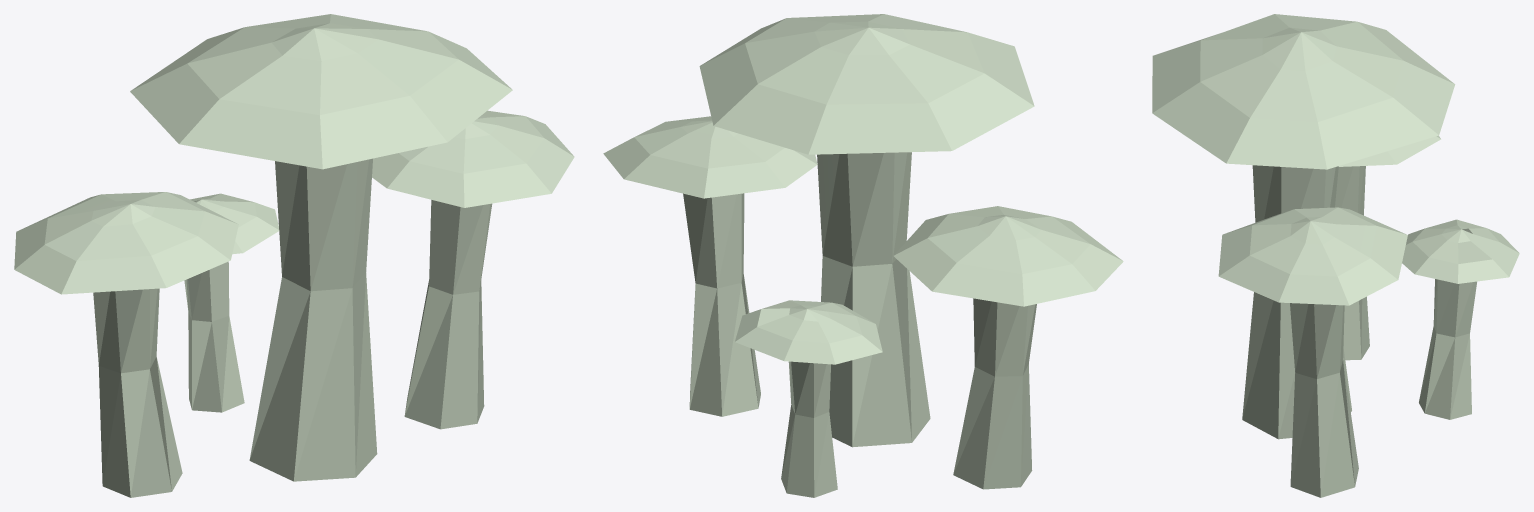
File: cave-mushroom1.glb
The picture shows the model from 3 angles, left to right: view 1: azimuth 30°, elevation 25°; view 2: azimuth 150°, elevation 25°; view 3: azimuth 270°, elevation 25°; orthographic projection. The views are drawn at different scales.
Visible parts, largest first — view 1: BlueBolete_Patch_B; view 2: BlueBolete_Patch_B; view 3: BlueBolete_Patch_B.
Part boxes in pixels (x1,y1,x2,y2): BlueBolete_Patch_B: (14,14,574,497); BlueBolete_Patch_B: (603,14,1123,497); BlueBolete_Patch_B: (1152,14,1519,497).
Bounding box in the file's own units: 1.67 × 1.3 × 1.12.
